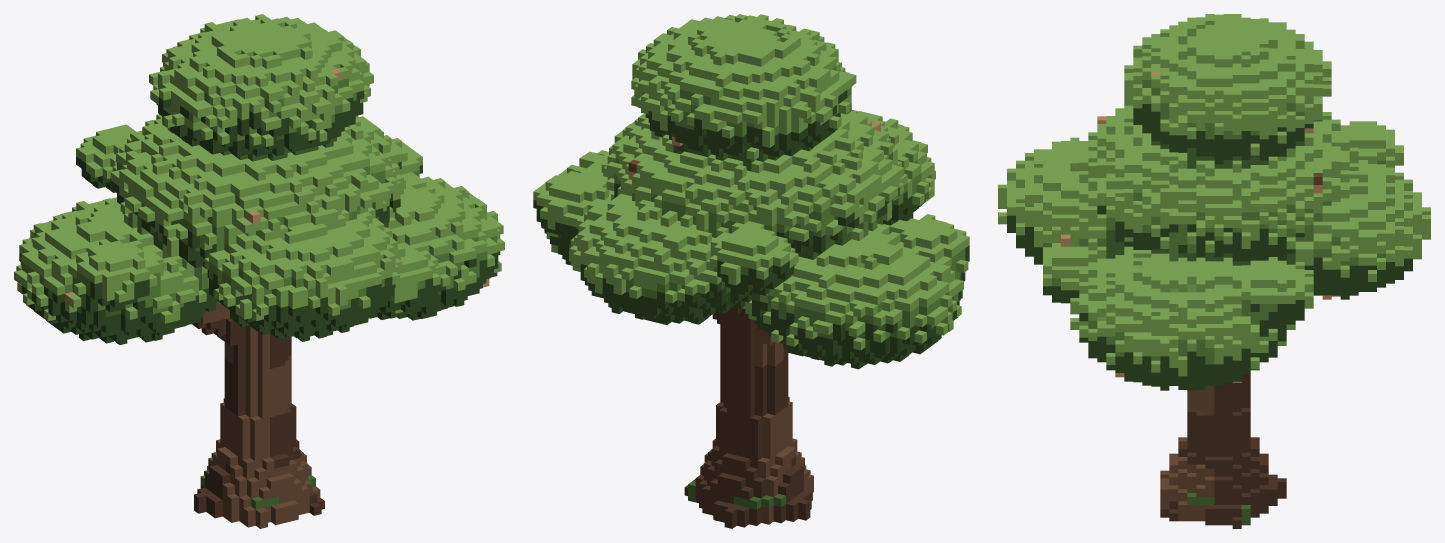
Rendered from Mountain_Oak_v2.fbx.
3 views of the same model, side by side, from view 1: azimuth 30°, elevation 25°; view 2: azimuth 150°, elevation 25°; view 3: azimuth 270°, elevation 25° (orthographic).
Visible parts, largest first — view 1: Mountain_Oak_v2; view 2: Mountain_Oak_v2; view 3: Mountain_Oak_v2.
Part boxes in pixels (bbox=[...]): Mountain_Oak_v2: bbox=[14, 14, 504, 528]; Mountain_Oak_v2: bbox=[533, 14, 969, 528]; Mountain_Oak_v2: bbox=[998, 14, 1430, 528].
Size of the model in its own units: 3.67 by 3.8 by 3.2.
1 material, 1 textured.
